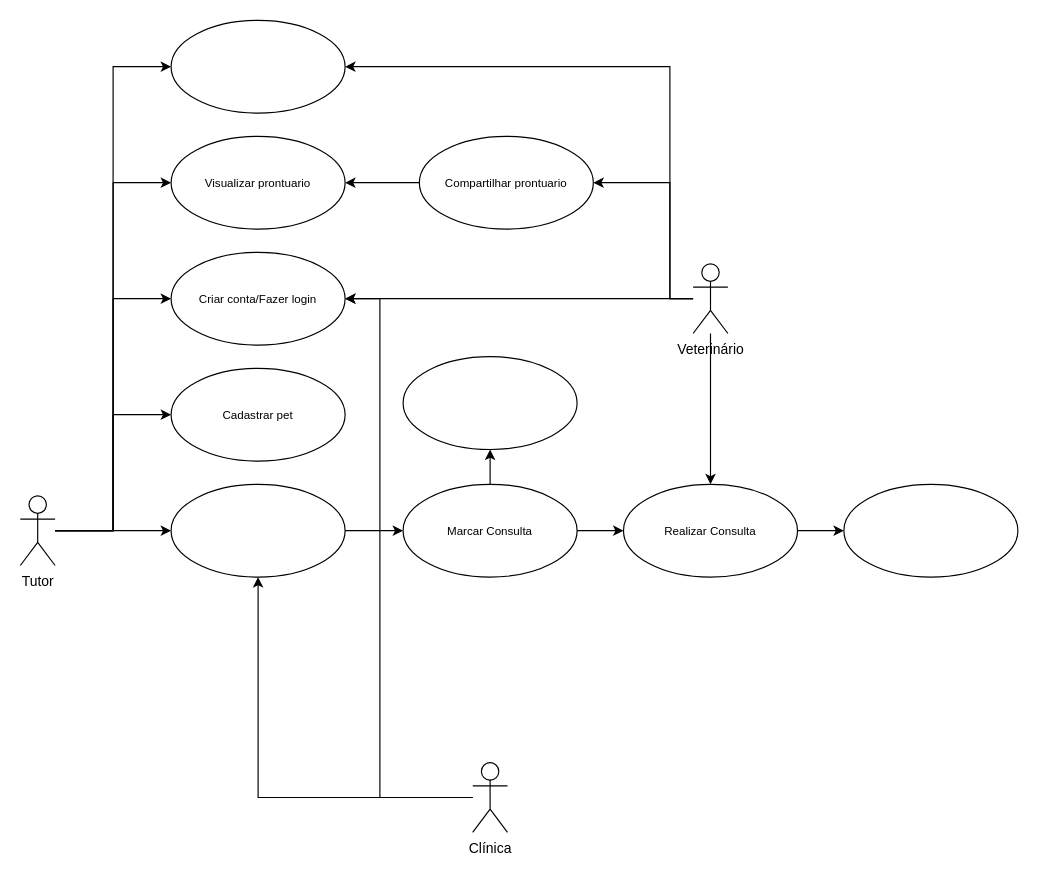
The diagram is 1038 pixels wide and 894 high, and some of its shapes have lost their labels. Here are the shapes that lost their labels. From the top down, the centre of each, then its label:
point 257,66: Fazer upload/download de arquivos (receitas, exames, etc..)
point 489,402: Solicitar Cancelamento de Consulta
point 257,530: Consulta agenda
point 930,530: Finalizar Consulta
